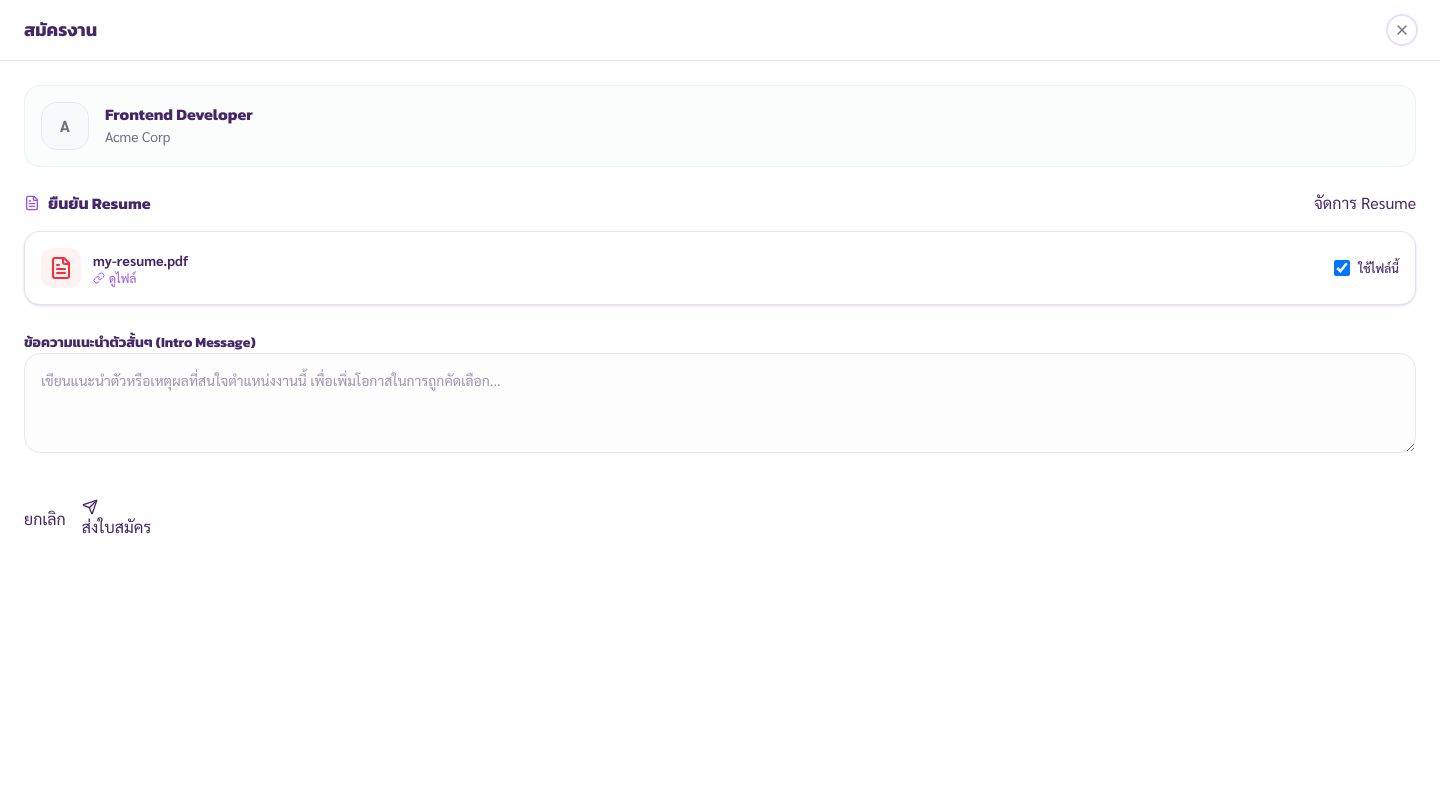
ApplyModal › disables submit and cancel buttons while action is pending
This screenshot has width=1440, height=810.
Type "I am very interested in this position." into the text box with placeholder "เขียนแนะนำตัว" at (720,403), box [24,353,1416,453]
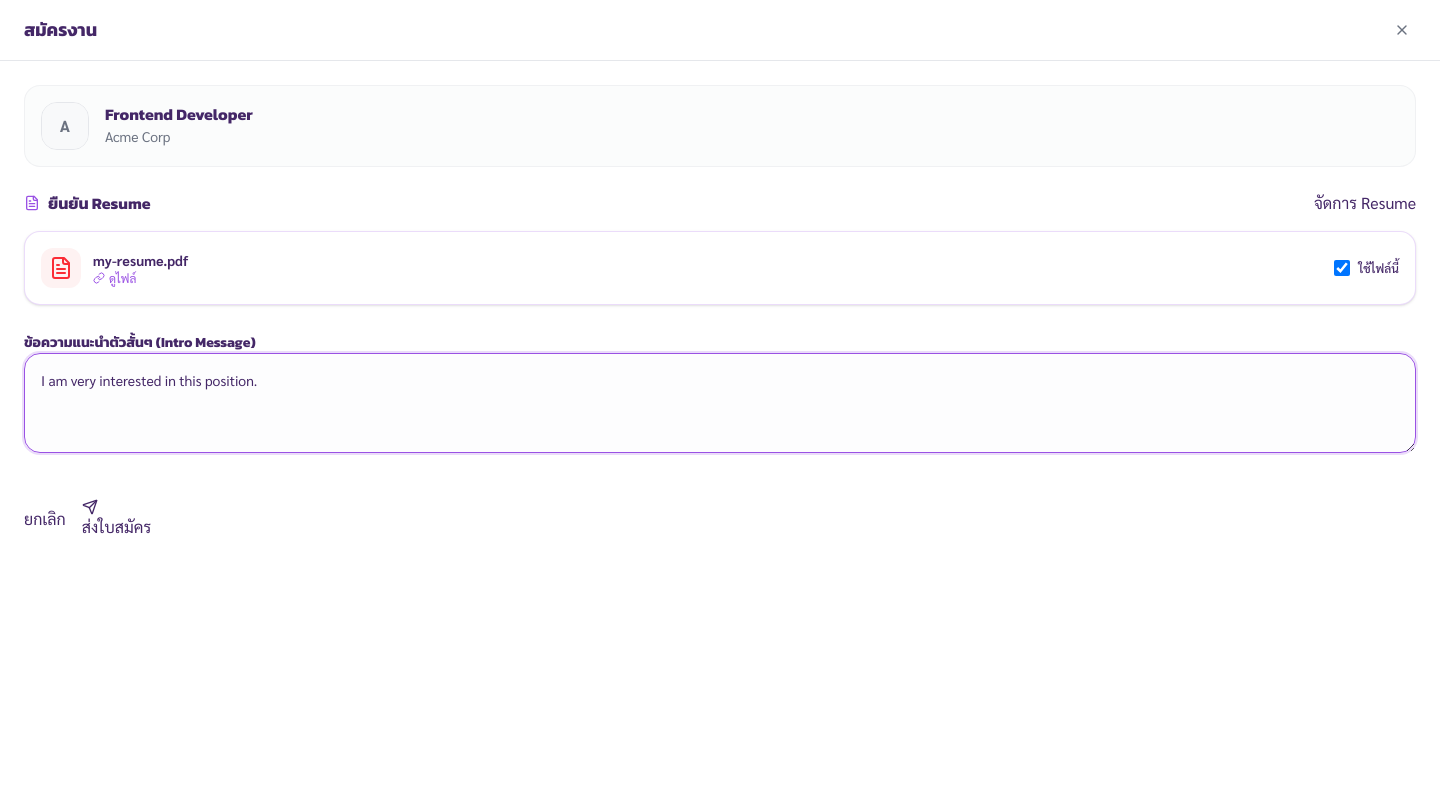
Click the button "ส่งใบสมัคร" at (116,519), box [82,499,151,539]
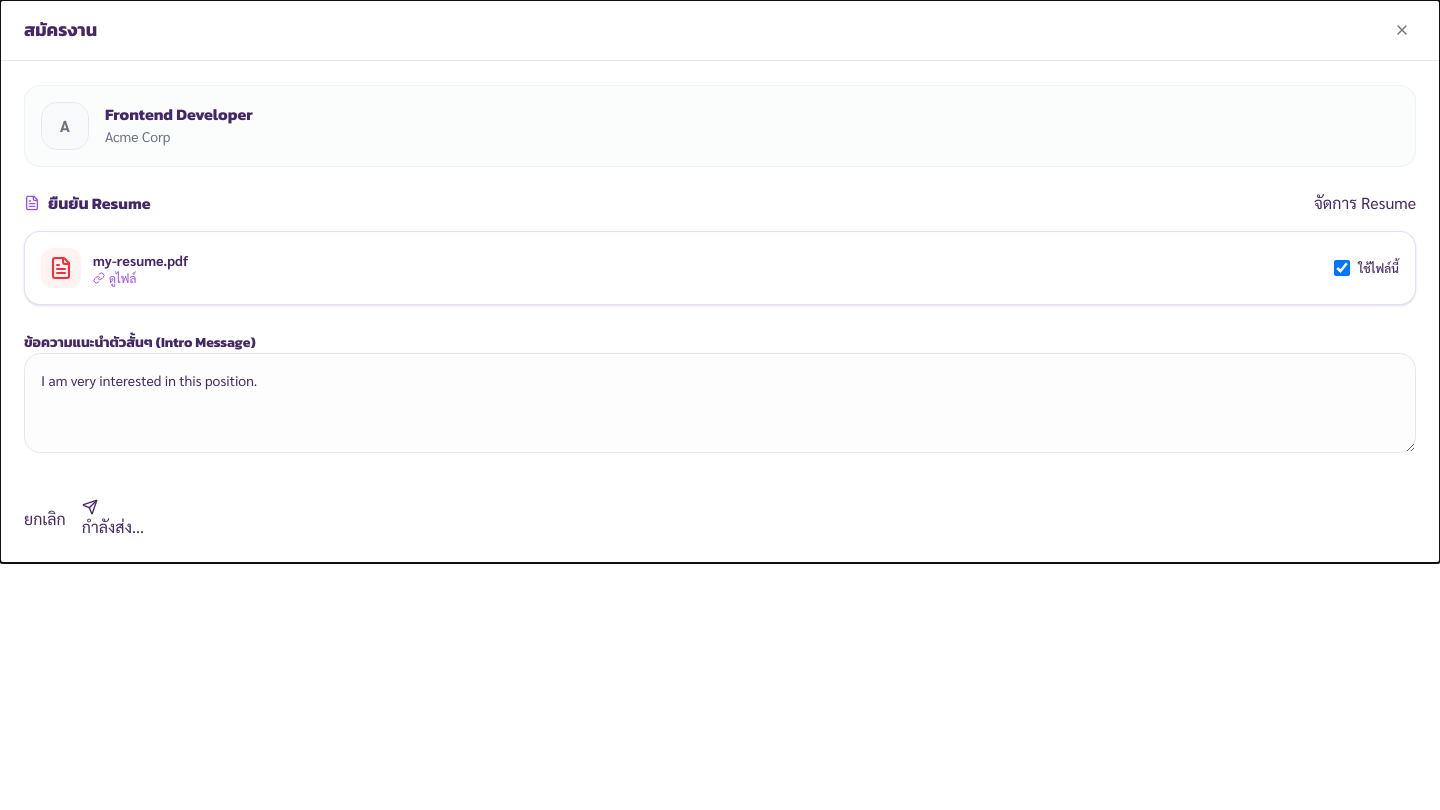
Check: the button "ยกเลิก" is disabled, box [24,499,66,539]
Check: the button named "ส่งใบสมัคร" is disabled, box [82,499,144,539]
